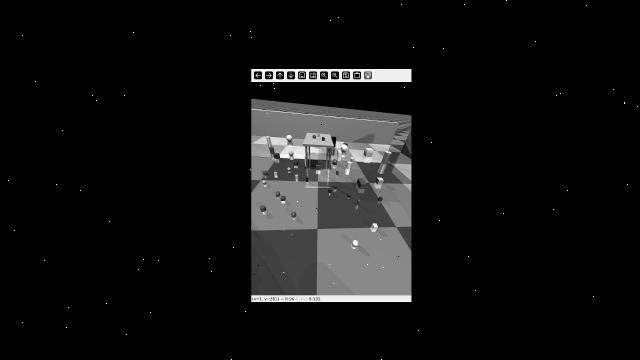cilindro: (380, 149, 393, 164), (265, 134, 272, 147), (354, 198, 362, 207), (345, 160, 352, 170), (331, 136, 338, 145), (259, 204, 266, 212), (377, 195, 384, 202), (261, 170, 269, 176), (270, 147, 275, 155), (304, 154, 307, 166), (328, 187, 333, 193), (294, 174, 299, 179), (317, 132, 321, 137), (305, 176, 308, 182)
cuadrado: (363, 146, 376, 157), (371, 221, 382, 232), (375, 176, 387, 184), (279, 195, 288, 202), (315, 163, 322, 171), (273, 153, 281, 159), (273, 171, 279, 177), (321, 136, 326, 142), (333, 184, 338, 189)
esfera: (349, 238, 362, 248), (289, 210, 298, 220), (285, 135, 295, 142), (340, 144, 349, 151), (286, 166, 293, 172), (275, 189, 281, 196), (333, 157, 339, 164), (288, 151, 296, 156), (334, 170, 342, 175), (261, 179, 267, 185), (347, 192, 354, 197), (348, 156, 355, 161), (312, 134, 316, 138)
rectangulo: (357, 177, 367, 190), (338, 149, 342, 158), (293, 160, 300, 165)
